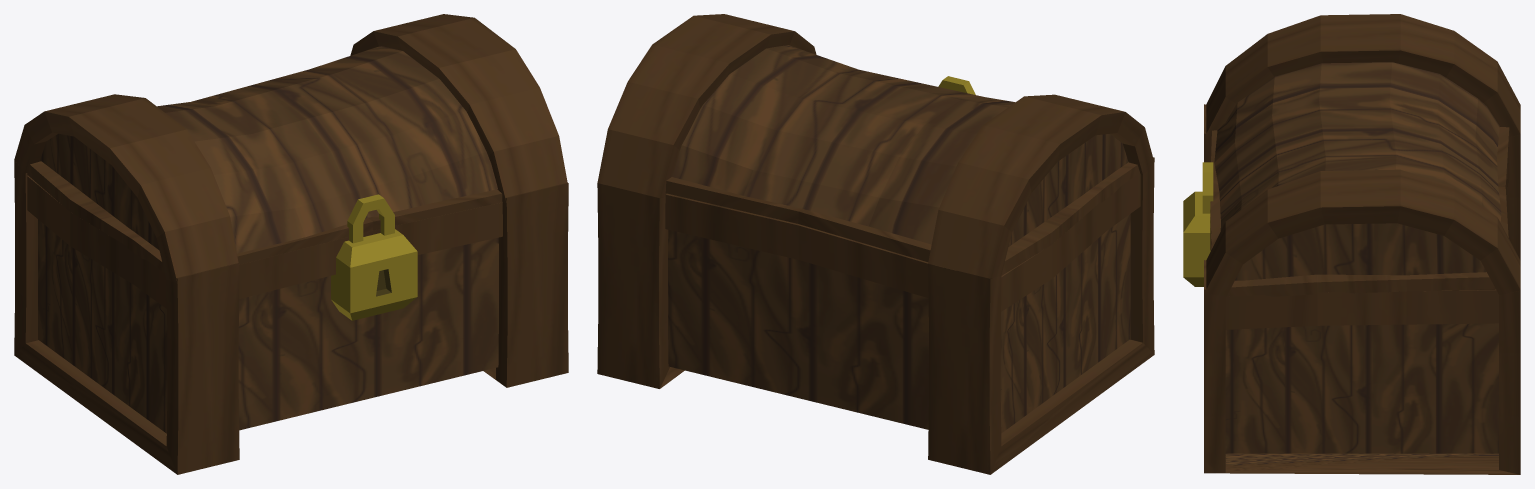
File: BauFinal.fbx
The picture shows the model from 3 angles, left to right: view 1: azimuth 30°, elevation 25°; view 2: azimuth 150°, elevation 25°; view 3: azimuth 270°, elevation 25°; orthographic projection. The views are drawn at different scales.
Parts seen in each view (by area): view 1: base, topo; view 2: base, topo; view 3: topo, base.
Part boxes in pixels (x1=…): base: x1=14, y1=160, x2=568, y2=474; topo: x1=14, y1=14, x2=567, y2=283; base: x1=597, y1=76, x2=1154, y2=474; topo: x1=597, y1=14, x2=1154, y2=278; topo: x1=1204, y1=14, x2=1520, y2=297; base: x1=1183, y1=104, x2=1520, y2=474.
Bounding box in the file's own units: 81.42 × 54.74 × 60.44.
